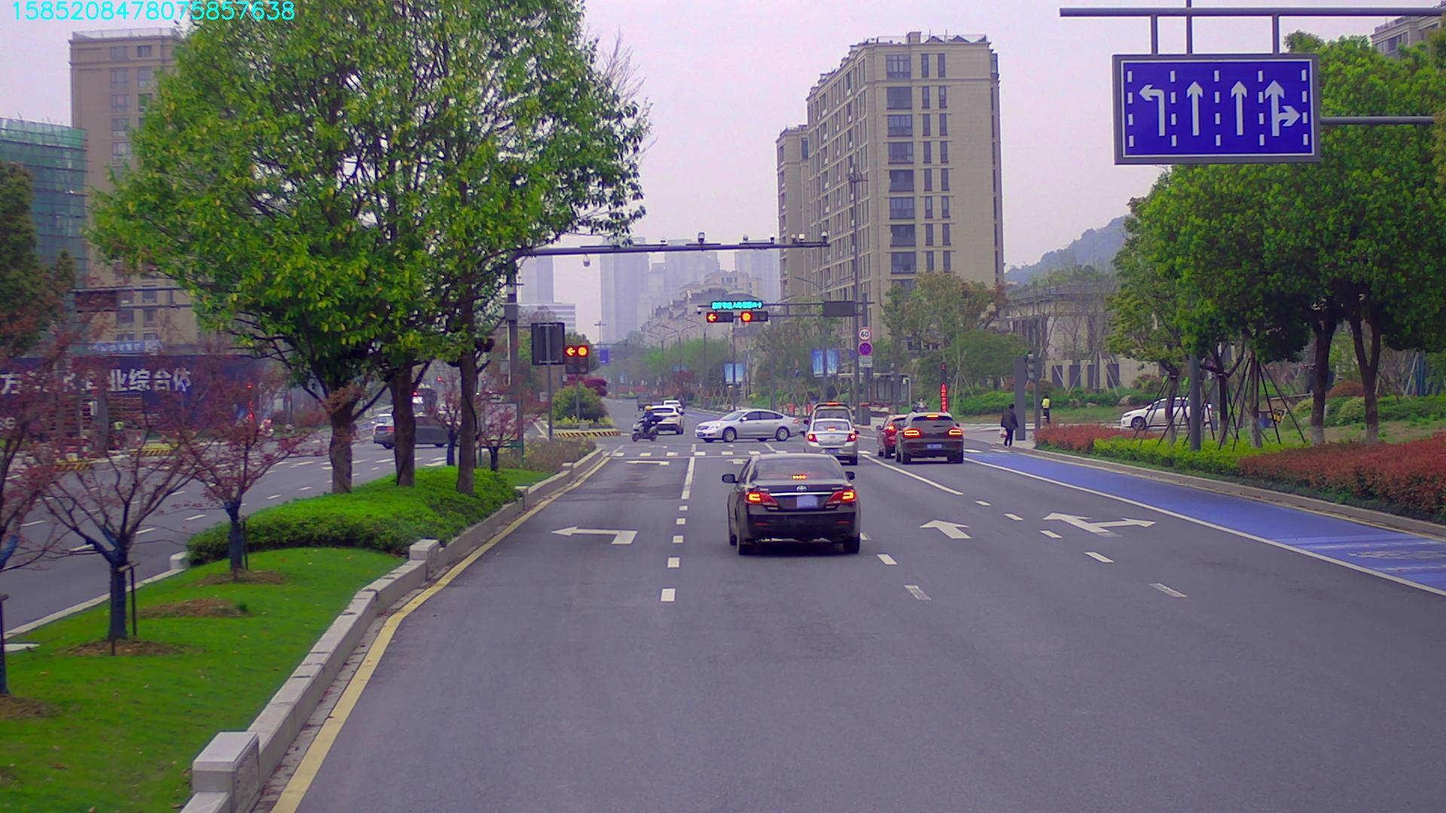red: (740, 311, 770, 325), (705, 311, 729, 321)
wait_on: (712, 294, 764, 309)
